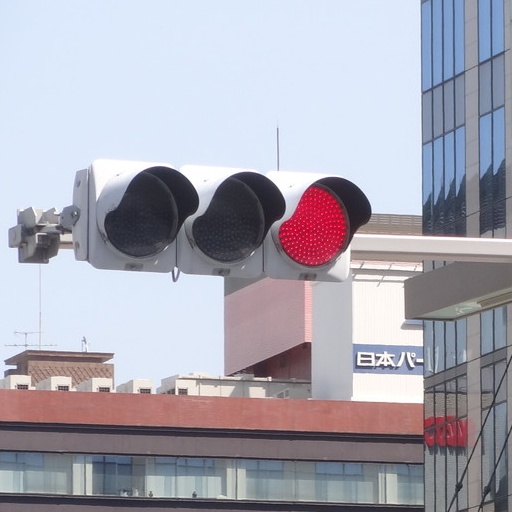Traffic_Signal_Red: (101, 147, 365, 280)
